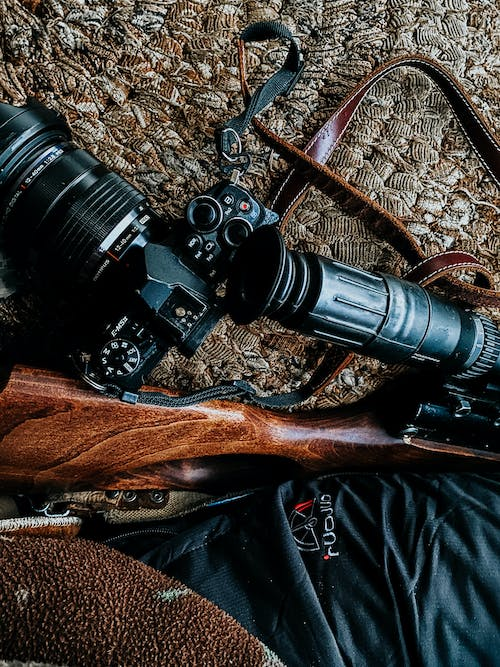gun: (0, 221, 500, 500)
